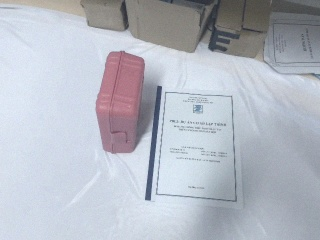box: (95, 44, 146, 157), (123, 1, 212, 56), (208, 1, 274, 59), (81, 1, 128, 32)
